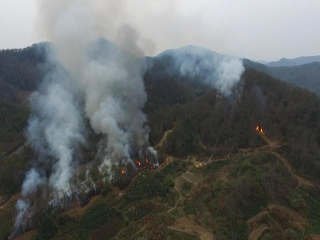smoke: (21, 13, 160, 209), (175, 40, 246, 101)
